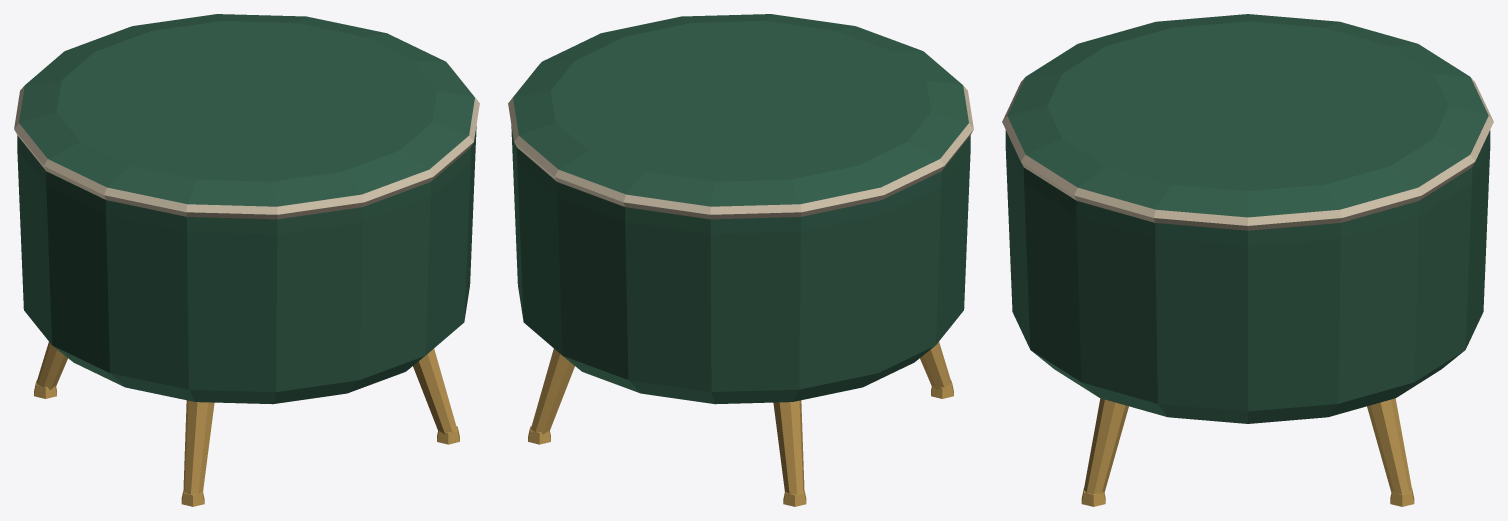
File: FN_Stool_Ottoman.obj
3 views of the same model, side by side, from view 1: azimuth 30°, elevation 25°; view 2: azimuth 150°, elevation 25°; view 3: azimuth 270°, elevation 25° (orthographic). The views are drawn at different scales.
Visible parts, largest first — view 1: FN_Stool_Ottoman; view 2: FN_Stool_Ottoman; view 3: FN_Stool_Ottoman.
Part boxes in pixels (x1,y1,x2,y2): FN_Stool_Ottoman: (14,14,479,506); FN_Stool_Ottoman: (508,14,973,506); FN_Stool_Ottoman: (1002,14,1493,506).
Bounding box in the file's own units: 0.568 × 0.42 × 0.568.
Materials: 1 (1 with a texture image).
